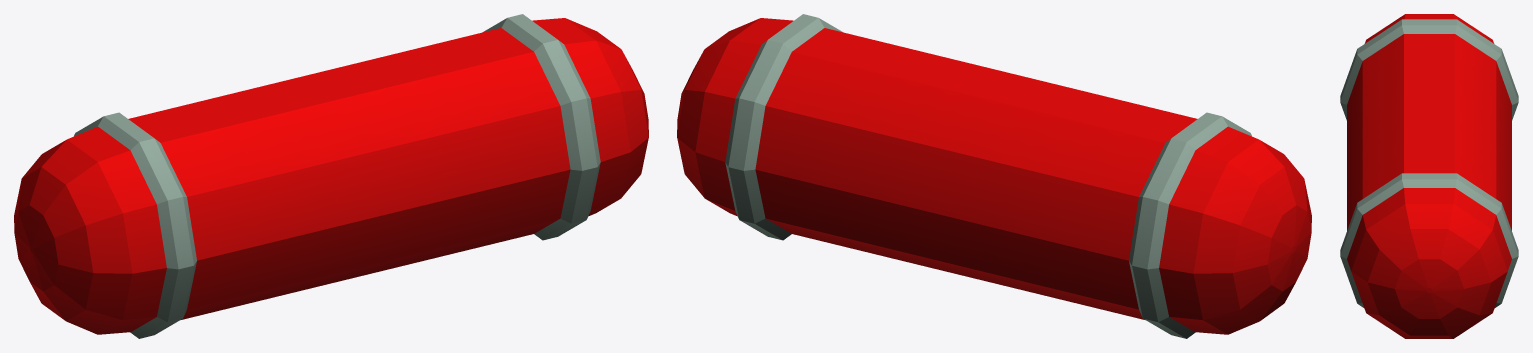
File: item_019.fbx
The picture shows the model from 3 angles, left to right: view 1: azimuth 30°, elevation 25°; view 2: azimuth 150°, elevation 25°; view 3: azimuth 270°, elevation 25°; orthographic projection. The views are drawn at different scales.
Visible parts, largest first — view 1: item.019; view 2: item.019; view 3: item.019.
Boxes of the visible parts, left/top/right/bottom form: item.019: left=14, top=14, right=648, bottom=338; item.019: left=677, top=14, right=1311, bottom=338; item.019: left=1340, top=14, right=1518, bottom=338.
Size of the model in its own units: 255 by 80.1 by 84.22.
